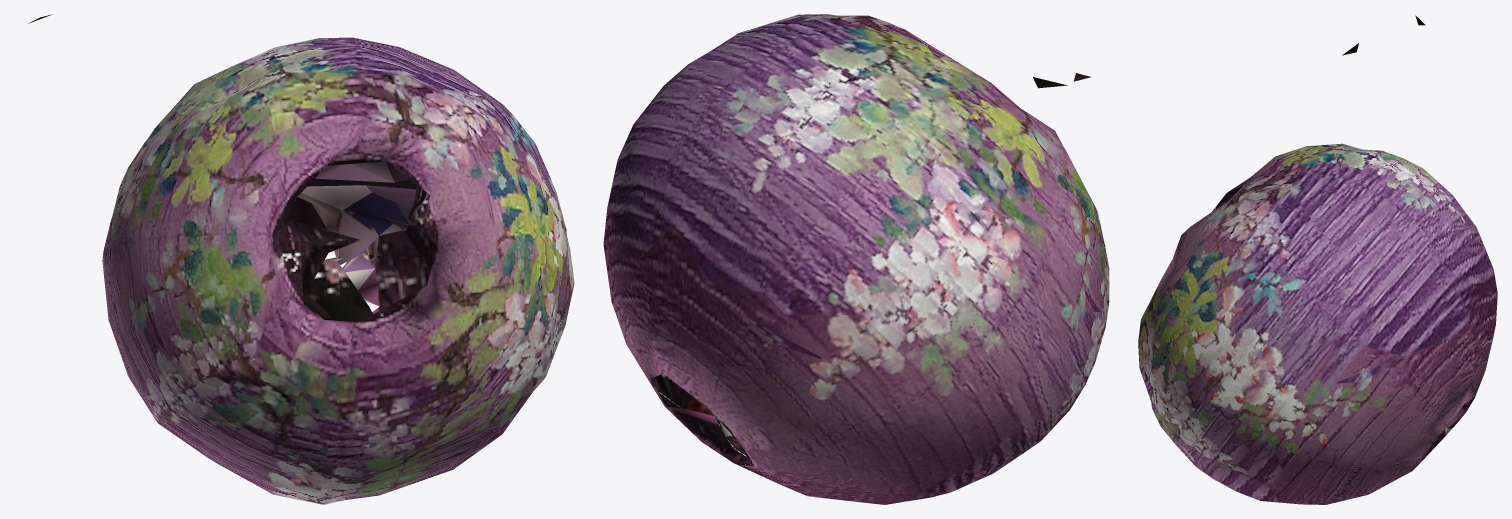
Rendered from AT4 Felix Wisterias 512.glb.
3 views of the same model, side by side, from view 1: azimuth 30°, elevation 25°; view 2: azimuth 150°, elevation 25°; view 3: azimuth 270°, elevation 25° (orthographic). The views are drawn at different scales.
Size of the model in its own units: 1000 by 944 by 818.
Materials: 1 (1 with a texture image).
